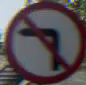Don't turn left: (14, 9, 71, 70)
